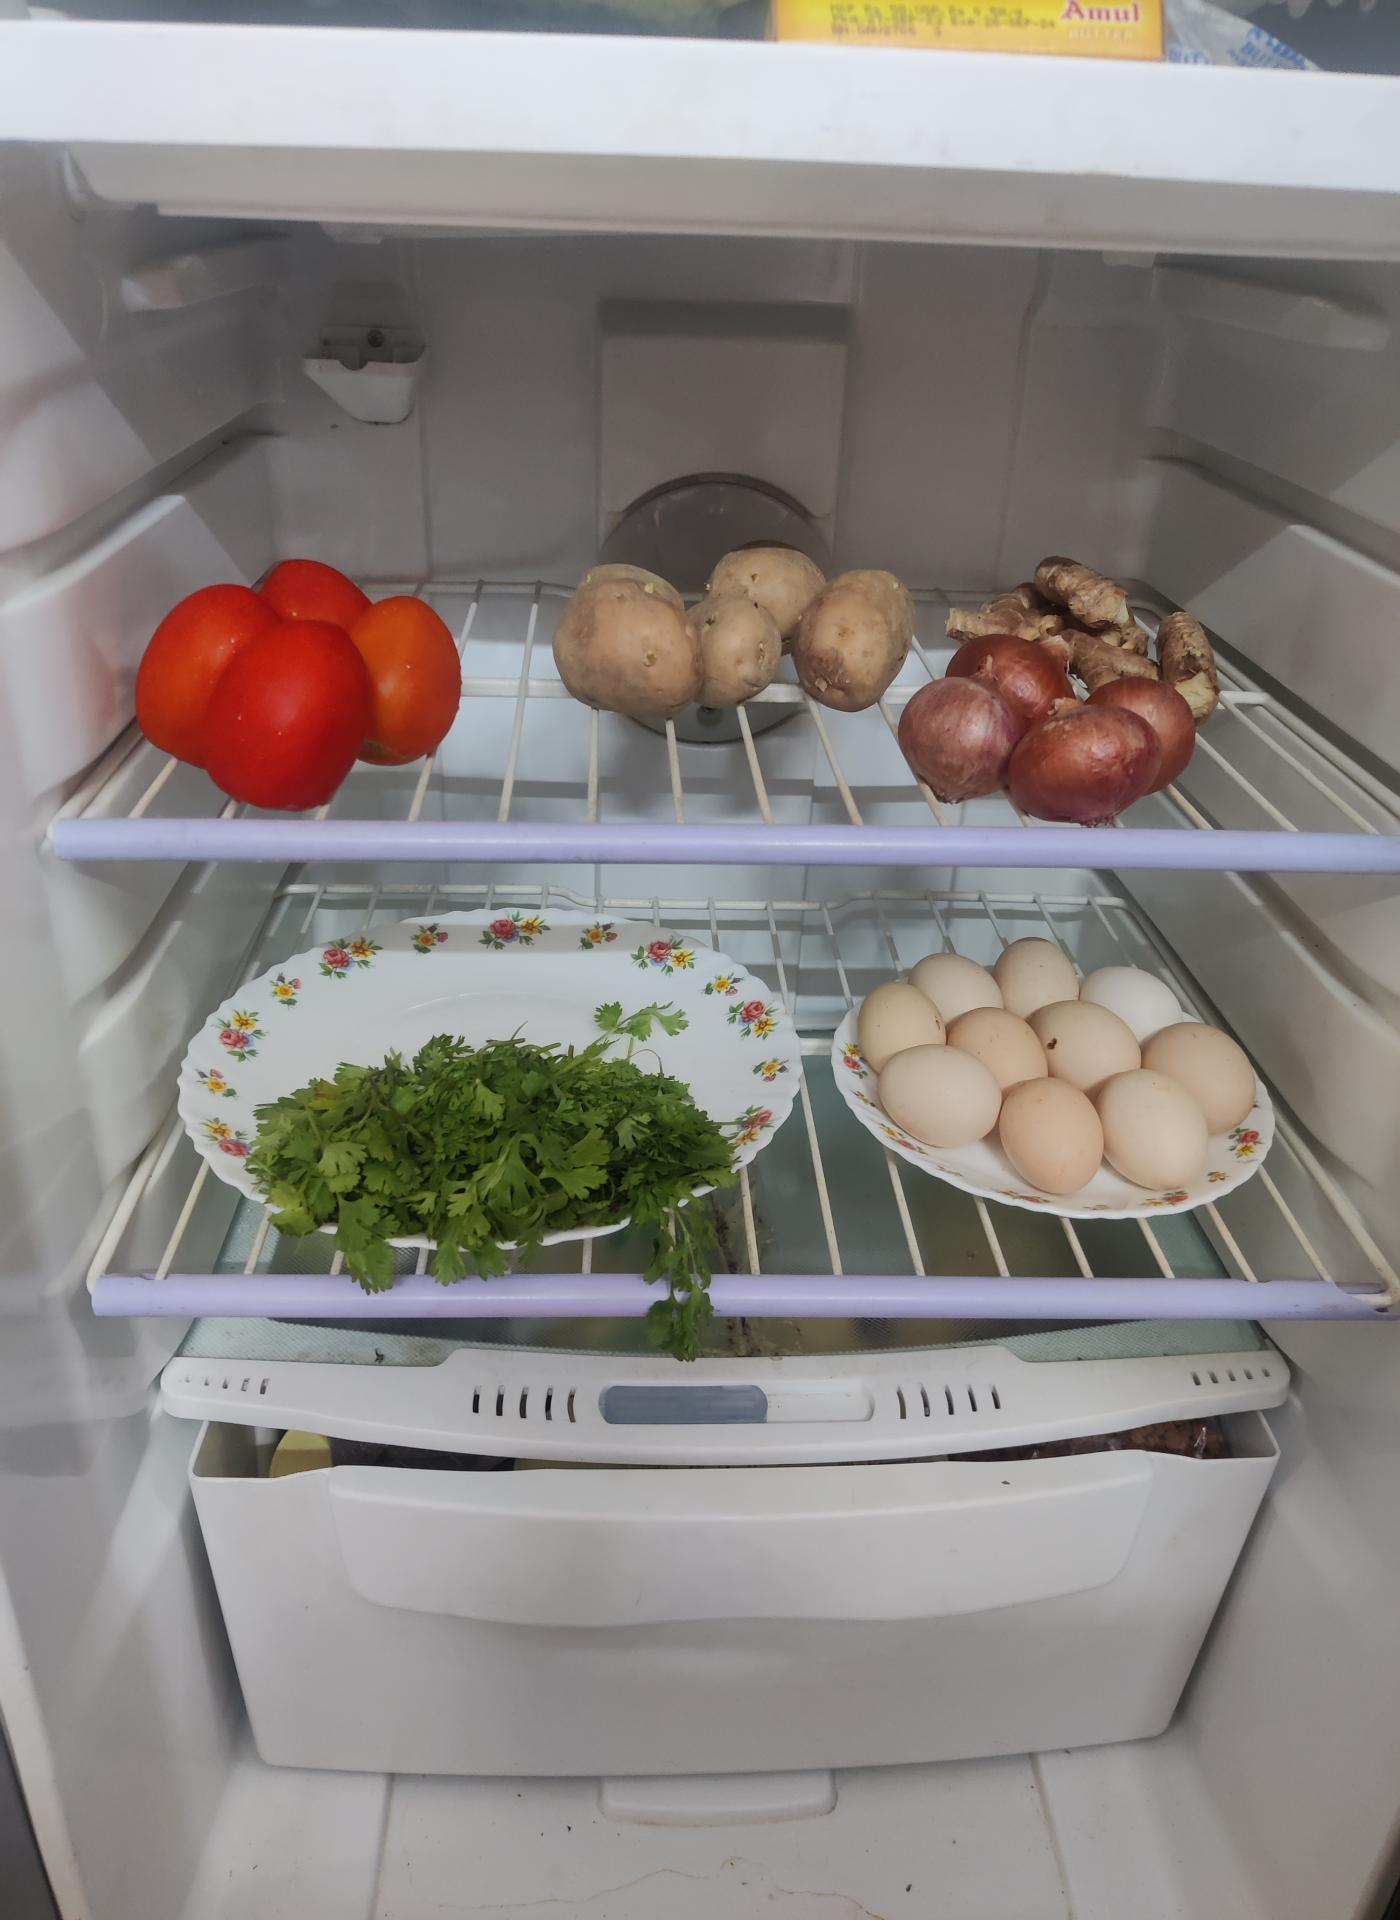coriander: (237, 1029, 747, 1261)
egg: (850, 924, 1264, 1182)
ginger: (939, 558, 1226, 690)
potato: (556, 541, 917, 726)
tomato: (134, 555, 462, 806)
